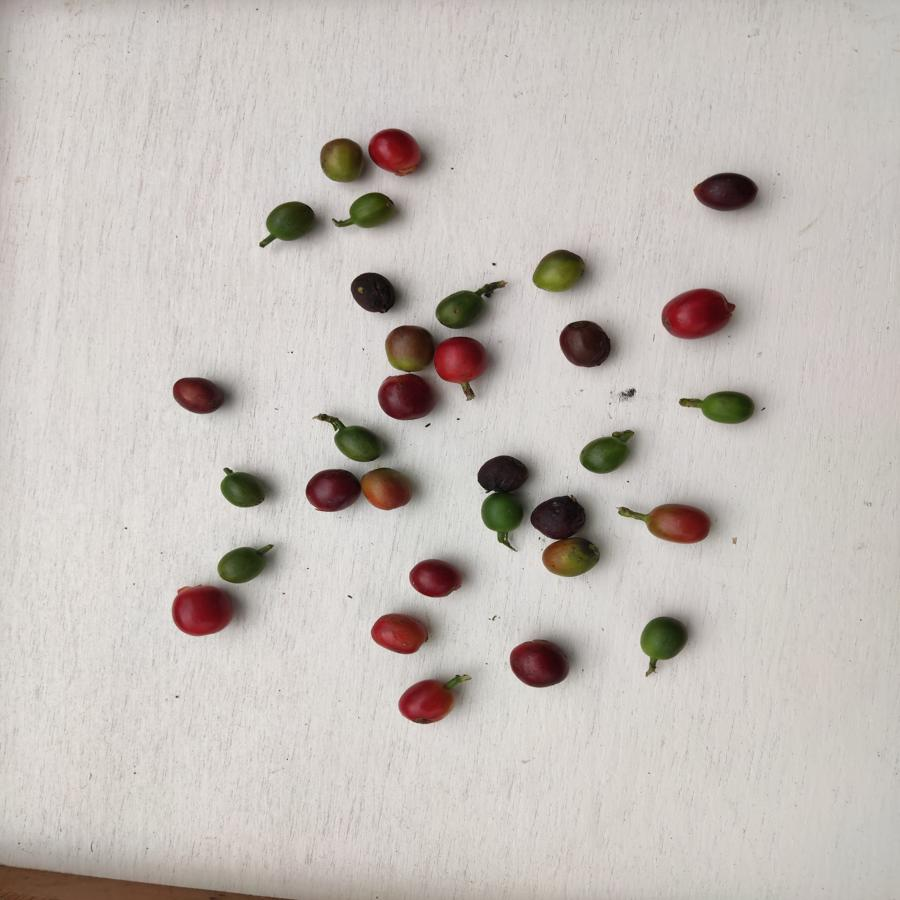Inmaduro: (264, 195, 318, 247), (634, 616, 689, 663), (573, 433, 633, 475), (333, 415, 384, 464), (213, 466, 268, 511), (699, 389, 758, 429), (216, 543, 264, 586), (435, 288, 486, 328), (478, 490, 525, 533), (350, 193, 397, 232)
Maduro: (661, 284, 734, 341), (168, 583, 234, 639), (648, 498, 718, 549), (367, 610, 434, 657), (395, 676, 457, 725), (430, 337, 491, 385), (368, 123, 423, 174)
Pinton: (529, 248, 591, 296), (542, 538, 602, 579), (314, 138, 368, 183), (361, 470, 415, 510), (383, 328, 433, 370)
Sobremaduro: (511, 634, 574, 692), (688, 168, 762, 215), (555, 318, 615, 370), (303, 467, 361, 518), (533, 489, 590, 539), (378, 373, 437, 421), (349, 268, 404, 318), (168, 373, 227, 418), (410, 556, 464, 601), (478, 451, 530, 493)
